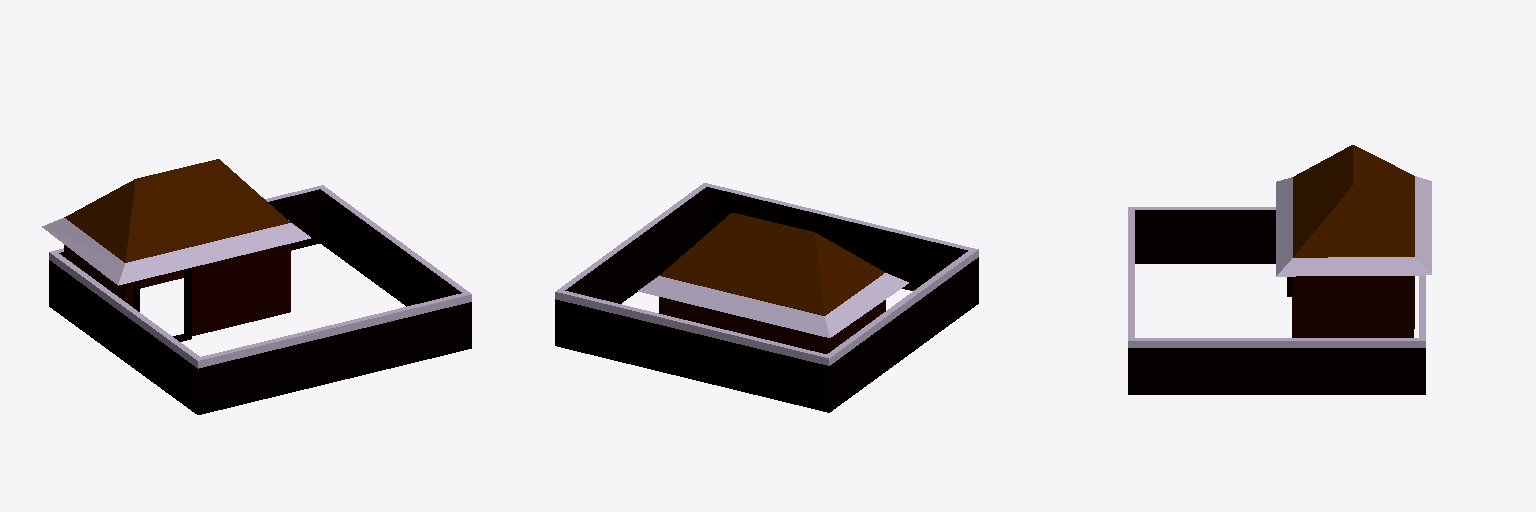
The model's file is shooting_range.obj.
The picture shows the model from 3 angles: view 1: azimuth 30°, elevation 25°; view 2: azimuth 150°, elevation 25°; view 3: azimuth 270°, elevation 25°; orthographic projection.
Parts seen in each view (by area): view 1: Cube.006; view 2: Cube.006; view 3: Cube.006.
Boxes of the visible parts, x1,y1,x2,y2 form: Cube.006: [42, 159, 471, 414]; Cube.006: [555, 183, 978, 412]; Cube.006: [1128, 145, 1431, 394].
Bounding box in the file's own units: 6.69 × 3.24 × 6.31.